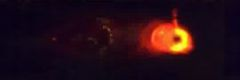keyhole: (171, 33, 185, 47)
